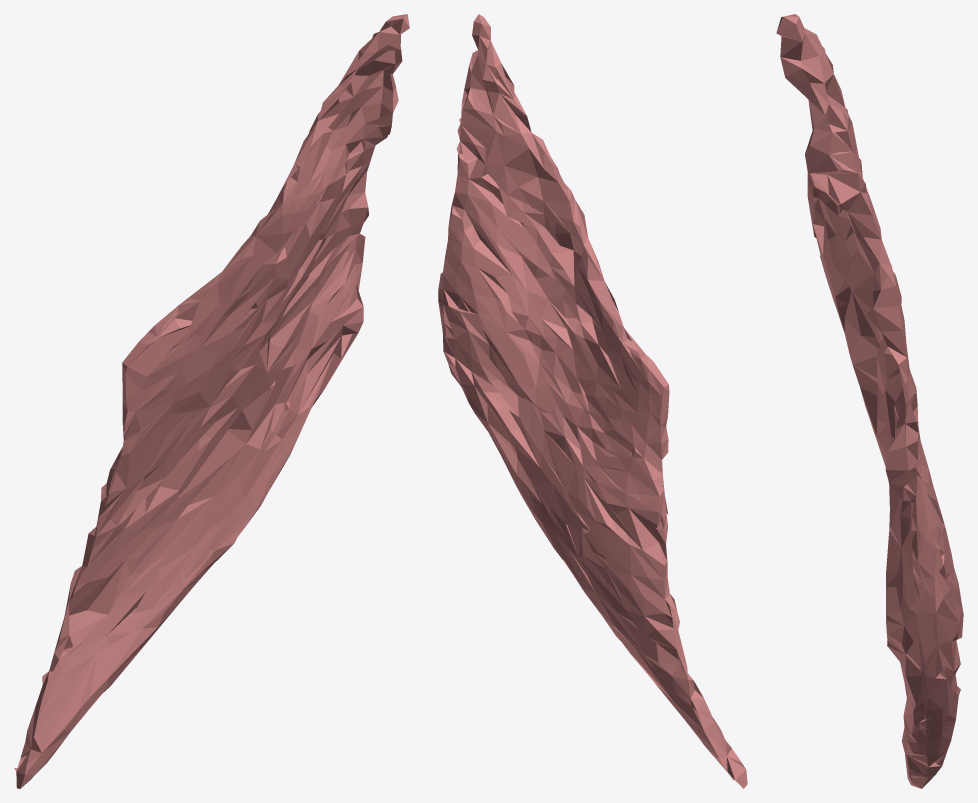
Rendered from Rhomboid_major_muscle.r.glb.
The picture shows the model from 3 angles, left to right: view 1: azimuth 30°, elevation 25°; view 2: azimuth 150°, elevation 25°; view 3: azimuth 270°, elevation 25°; orthographic projection. The views are drawn at different scales.
Parts seen in each view (by area): view 1: Rhomboid_major_muscle.r; view 2: Rhomboid_major_muscle.r; view 3: Rhomboid_major_muscle.r.
Part boxes in pixels (x1,y1,x2,y2): Rhomboid_major_muscle.r: (14, 14, 409, 788); Rhomboid_major_muscle.r: (438, 14, 747, 788); Rhomboid_major_muscle.r: (776, 14, 963, 788).
Bounding box in the file's own units: 0.0866 × 0.1763 × 0.0299.
